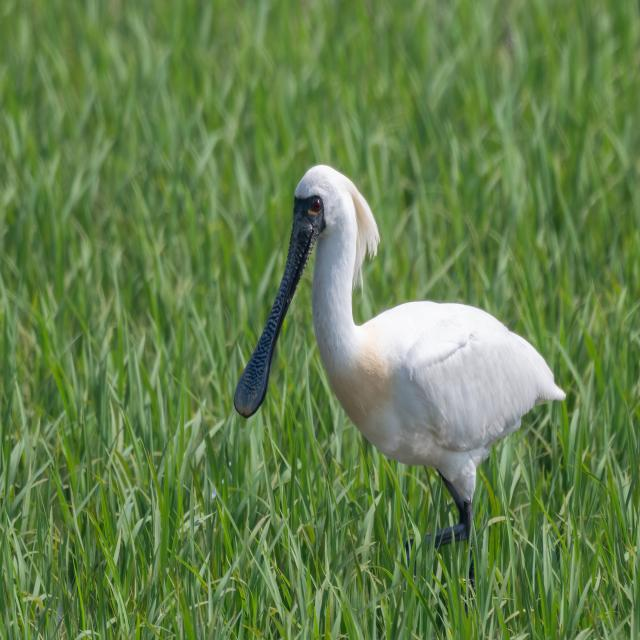Black-faced spoonbill: (235, 166, 565, 544)
